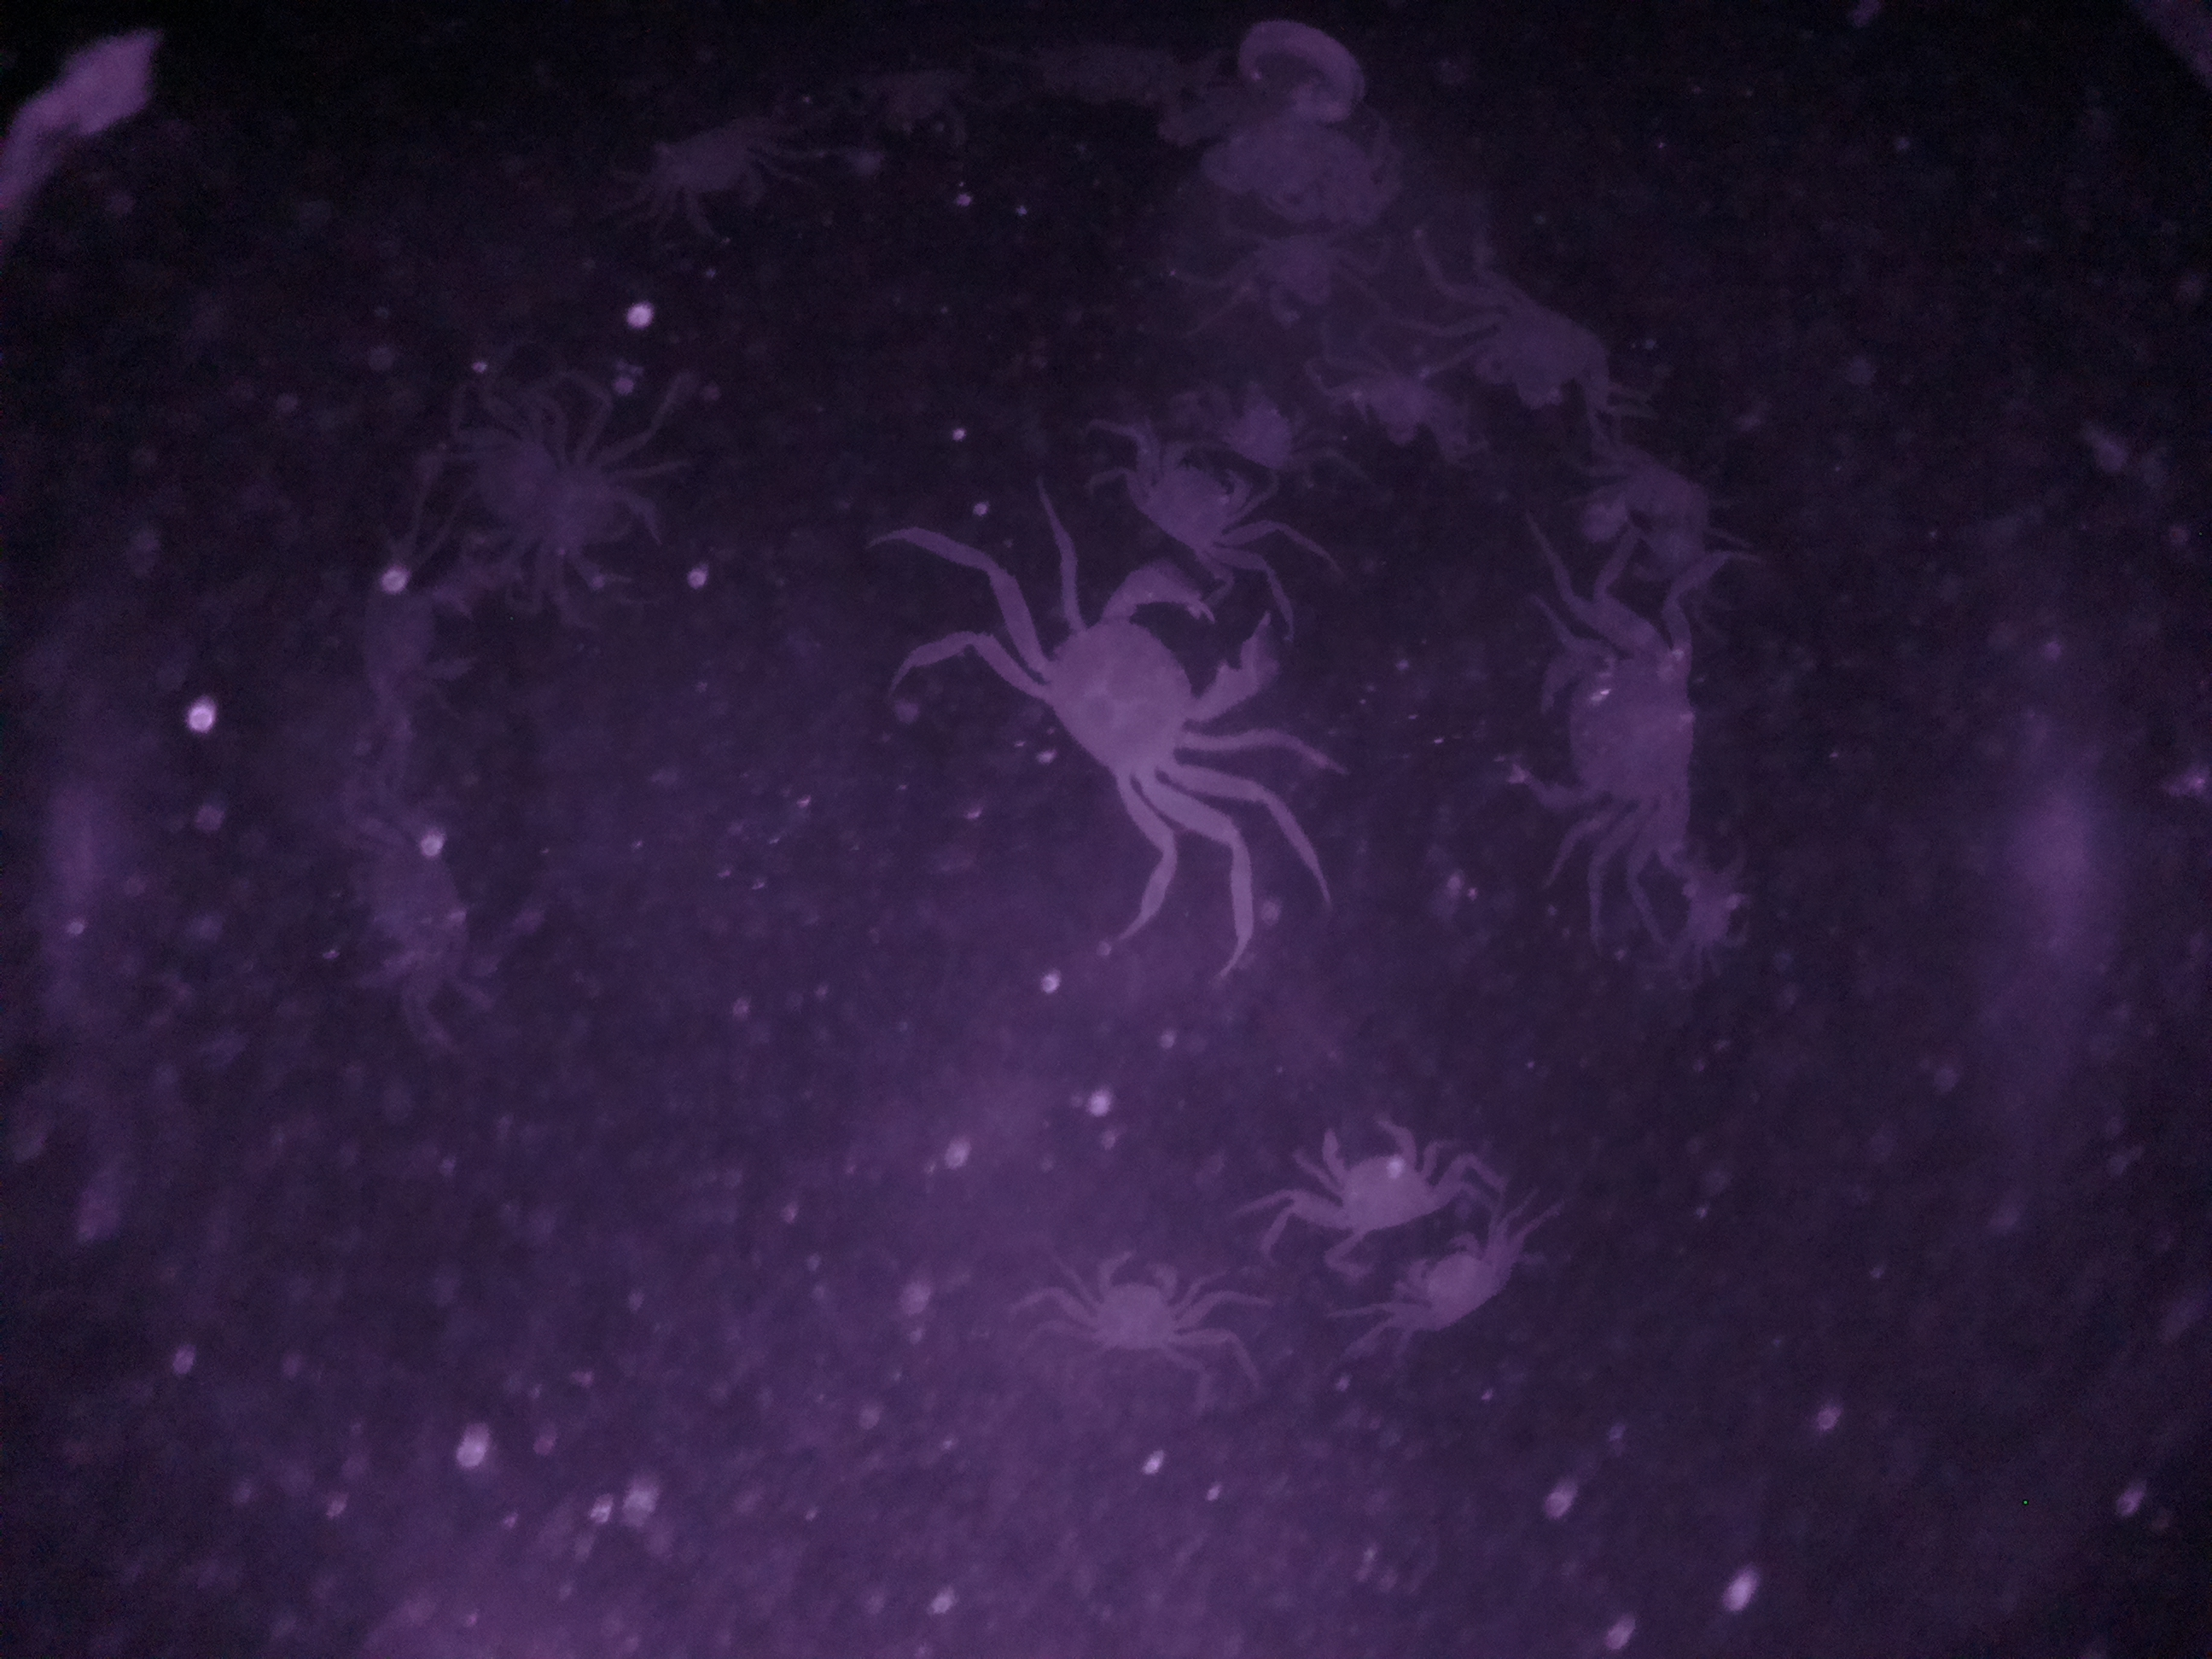Crab: (986, 575, 1296, 831), (1519, 606, 1709, 863), (1446, 272, 1620, 425), (1123, 430, 1285, 573), (1289, 1105, 1440, 1256), (1369, 1216, 1522, 1349), (1059, 1244, 1202, 1371)
